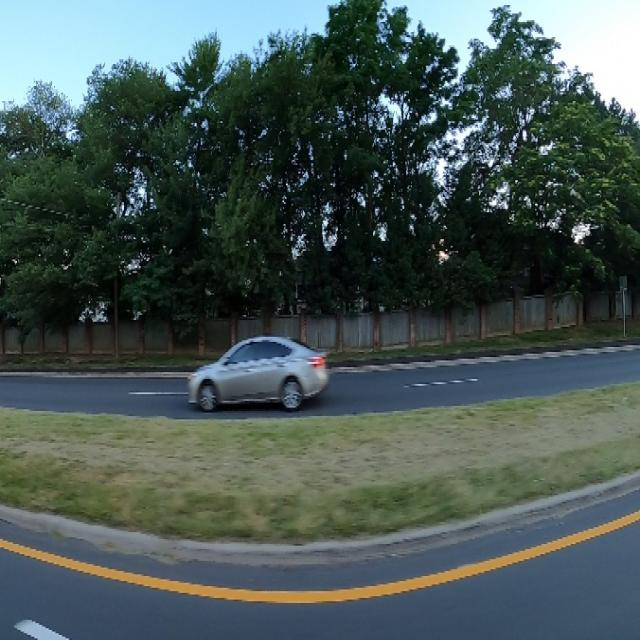cars: (180, 315, 334, 420)
